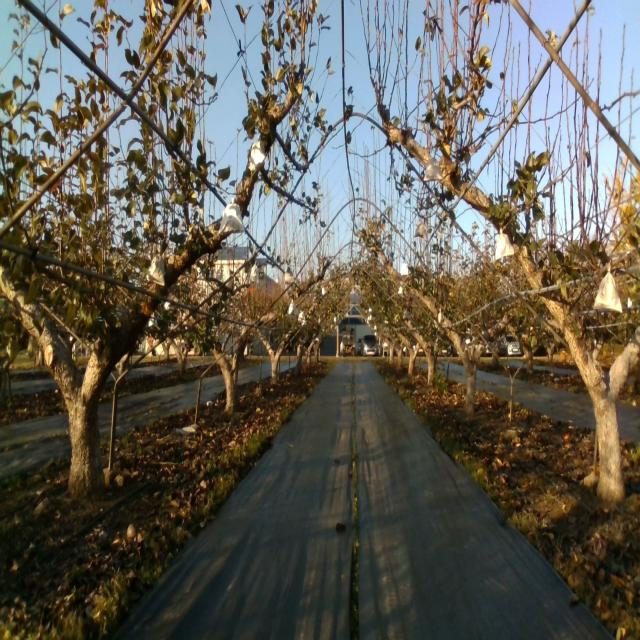pearbags: (593, 262, 623, 316), (218, 197, 245, 234), (494, 228, 515, 264), (146, 250, 164, 287), (423, 156, 444, 182), (250, 140, 266, 172)
